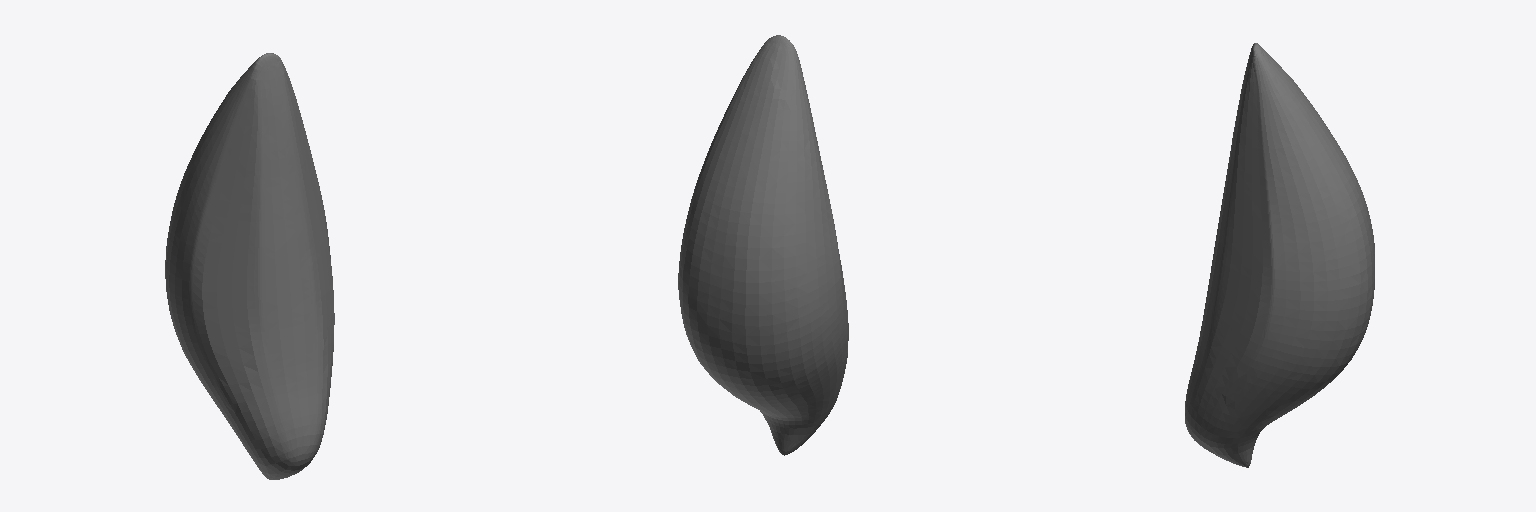
The model's file is Ligne_Roset_Kotori_Decoration_mat(2).obj.
The picture shows the model from 3 angles: view 1: azimuth 30°, elevation 25°; view 2: azimuth 150°, elevation 25°; view 3: azimuth 270°, elevation 25°; orthographic projection.
Parts seen in each view (by area): view 1: Ligne_Roset_Kotori_Decoration_mat2; view 2: Ligne_Roset_Kotori_Decoration_mat2; view 3: Ligne_Roset_Kotori_Decoration_mat2.
Part boxes in pixels (bbox=[...]): Ligne_Roset_Kotori_Decoration_mat2: bbox=[165, 53, 334, 479]; Ligne_Roset_Kotori_Decoration_mat2: bbox=[678, 35, 848, 455]; Ligne_Roset_Kotori_Decoration_mat2: bbox=[1185, 43, 1374, 467].
Size of the model in its own units: 6.52 by 18.51 by 7.57.